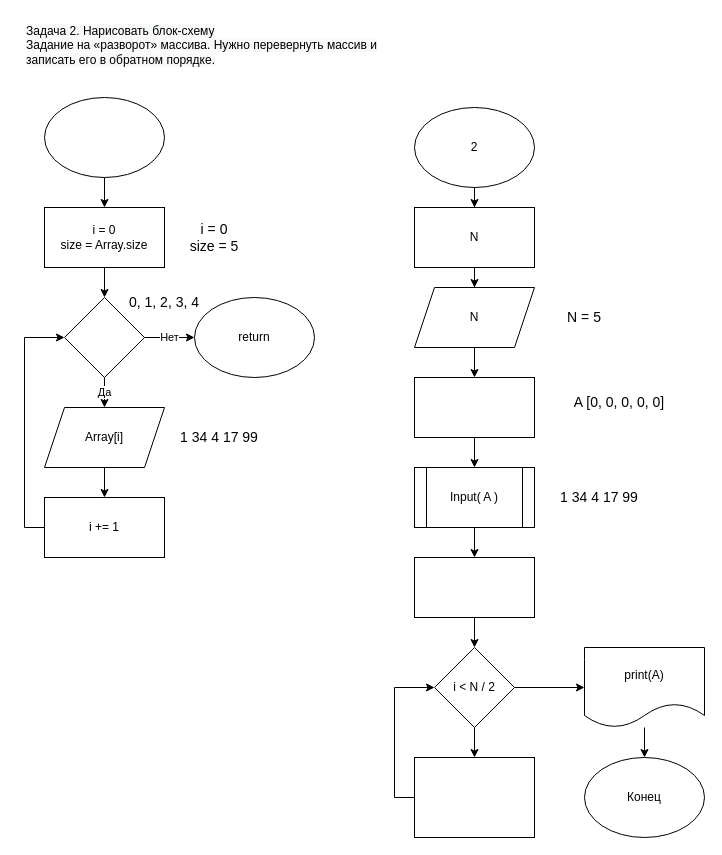
The diagram is 722 pixels wide and 855 high, and some of its shapes have lost their labels. Here are the shapes that lost their labels. From the top down, the centre of each, then its label:
[104,137]: Input (Array)
[104,337]: i < size
[474,407]: A[N] - массив целых чисел
[474,587]: i = 0
[474,797]: help = A[i] A[i] = A[N - 1 - i] A[N - 1 - i] = help i += 1
